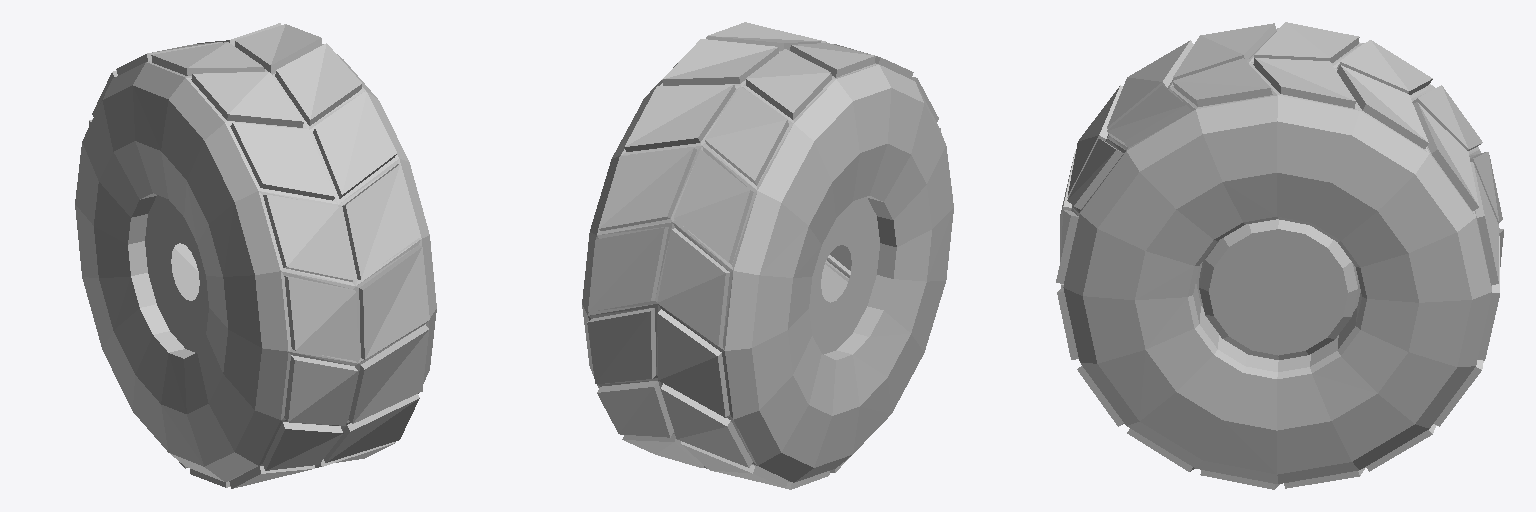
Rendered from Jeep_wheel_front_R.obj.
The picture shows the model from 3 angles: view 1: azimuth 30°, elevation 25°; view 2: azimuth 150°, elevation 25°; view 3: azimuth 270°, elevation 25°; orthographic projection.
Parts seen in each view (by area): view 1: Jeep_default.002; view 2: Jeep_default.002; view 3: Jeep_default.002.
Boxes of the visible parts, x1=… form: Jeep_default.002: x1=75, y1=23, x2=436, y2=488; Jeep_default.002: x1=582, y1=22, x2=953, y2=489; Jeep_default.002: x1=1056, y1=22, x2=1503, y2=489.
Size of the model in its own units: 2.1 by 4.22 by 4.25.